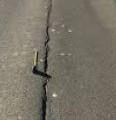crack: (40, 0, 56, 120)
